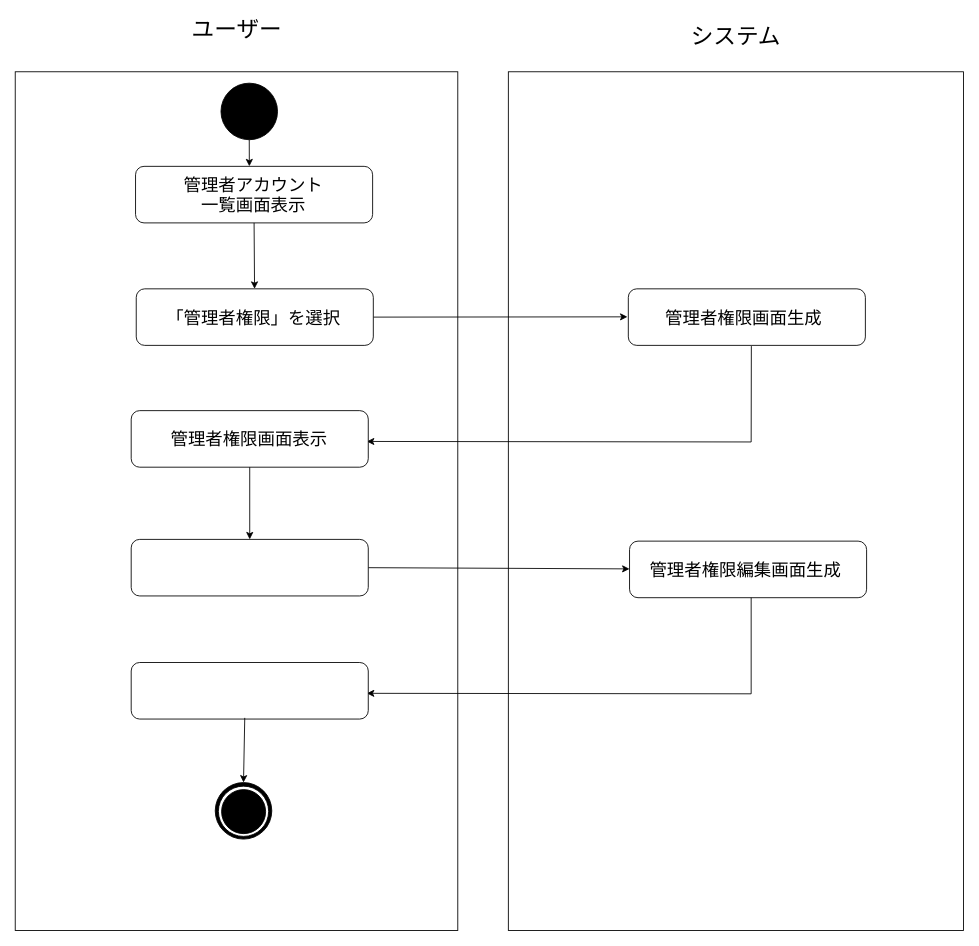
The diagram is 979 pixels wide and 946 high, and some of its shapes have lost their labels. The shapes that lost their labels are listed below. From the top down, each one's box as (x1, y1, x2, y2) in pixels, then its label:
(130, 539, 368, 596): 「編集」を選択
(130, 662, 368, 719): 管理者権限編集画面表示
